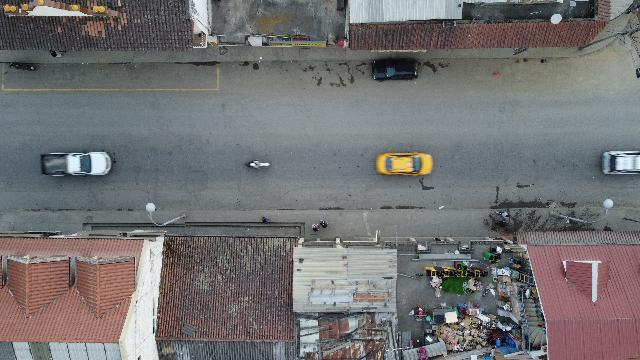Vehiculo: (40, 152, 111, 176), (376, 152, 432, 176), (372, 58, 418, 82), (601, 151, 639, 175)
